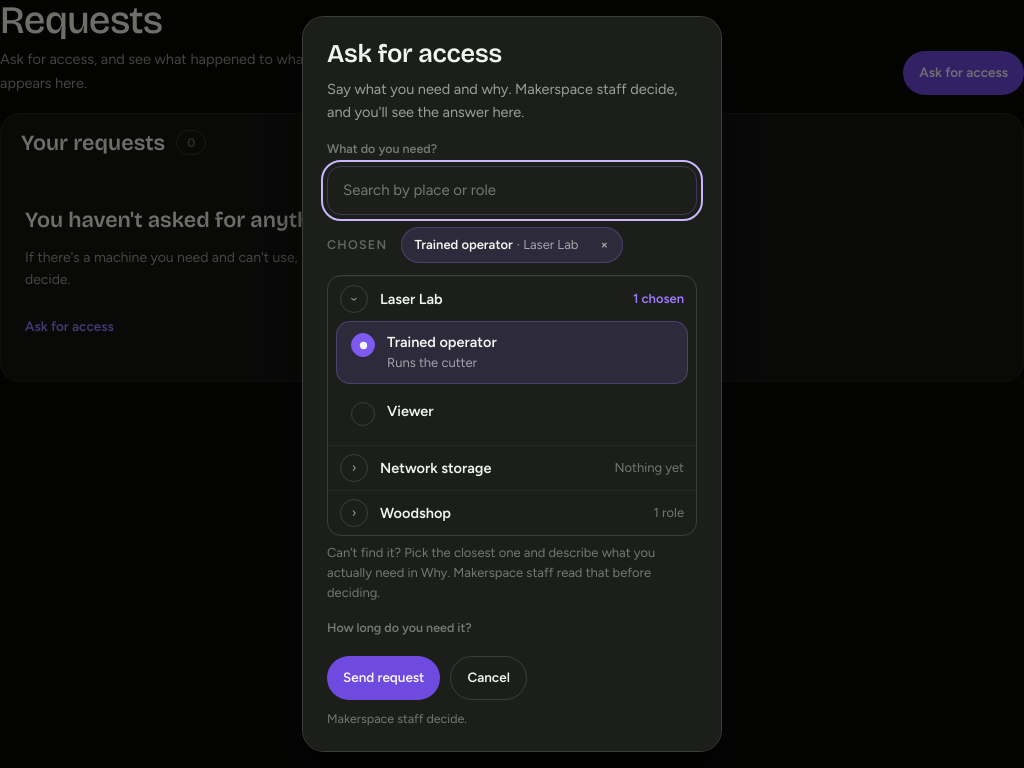
Test case: Ask for access · only what they lack, once › a race with another tab is Not sent, neutral, and says the request is waiting
Step 1. Click the button "Send request" → (384,678), box [327,656,440,700]
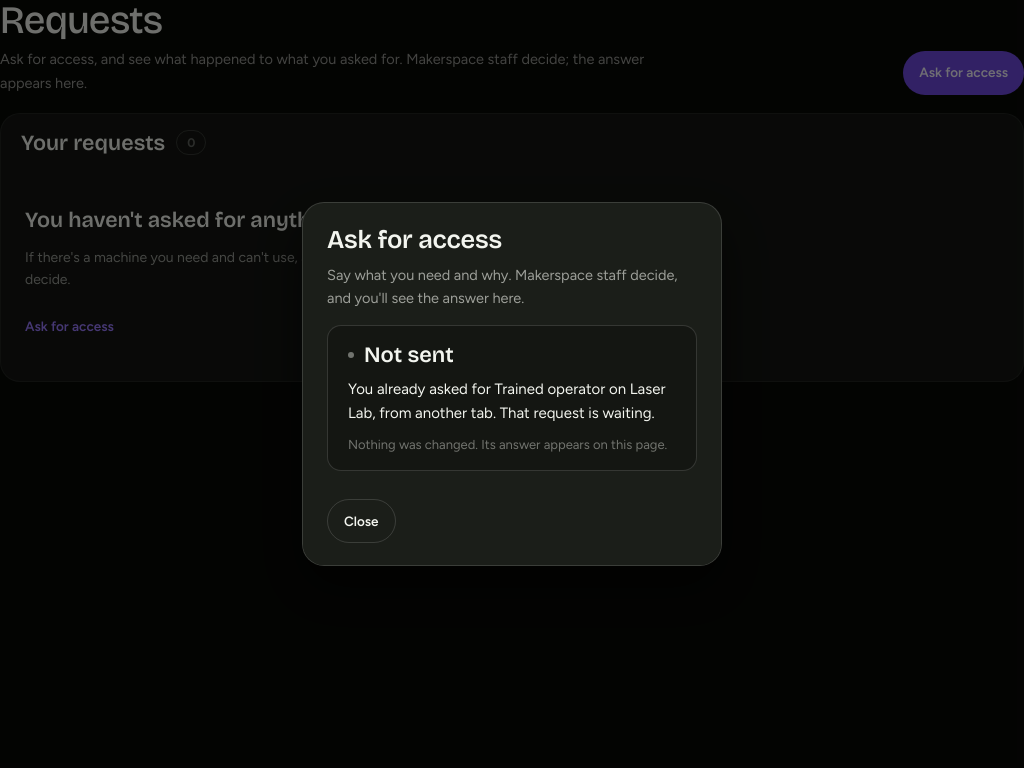
Check: the text "Not sent" is shown, box [364,342,454,368]
Check: the text "You already asked for Trained operator on Laser Lab, from another tab. That request is waiting." is shown, box [348,380,666,422]
Check: the text "Nothing was changed. Its answer appears on this page." is shown, box [348,435,676,454]
